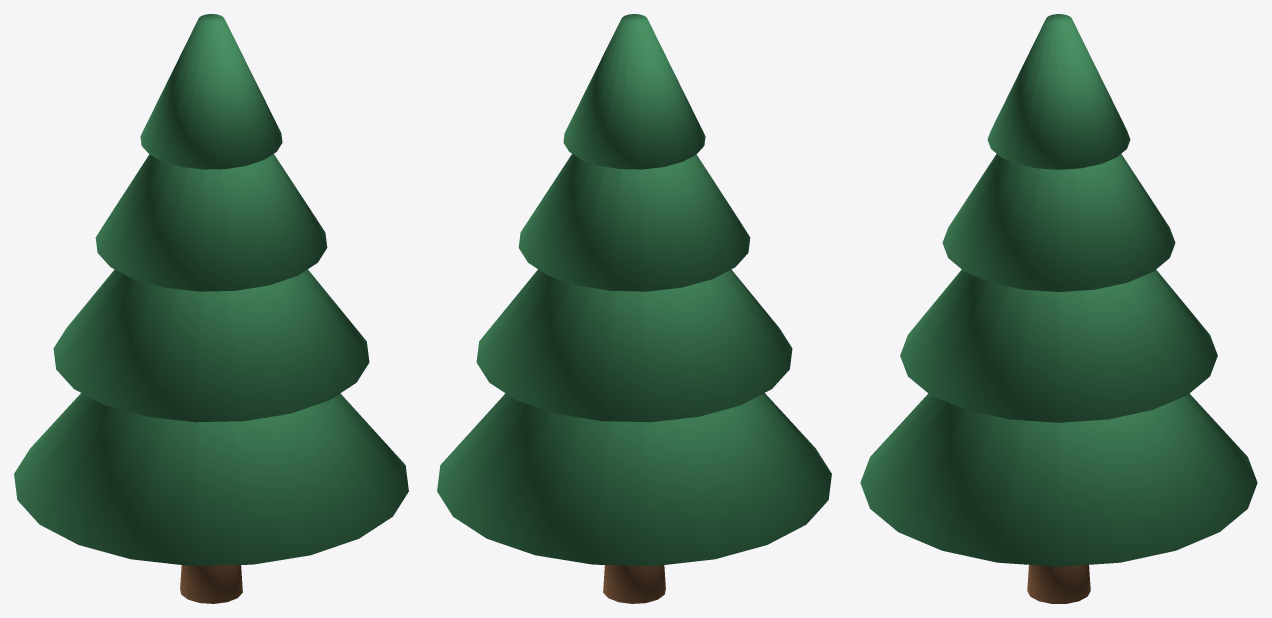
Rendered from cedar.glb.
3 renders of one model, left to right at view 1: azimuth 30°, elevation 25°; view 2: azimuth 150°, elevation 25°; view 3: azimuth 270°, elevation 25°, orthographic.
Parts seen in each view (by area): view 1: canopy, trunk; view 2: canopy, trunk; view 3: canopy, trunk.
Boxes of the visible parts, <box> form: canopy: <box>14,14,408,565</box>; trunk: <box>180,565,242,603</box>; canopy: <box>437,14,831,565</box>; trunk: <box>603,565,665,603</box>; canopy: <box>860,14,1257,566</box>; trunk: <box>1027,565,1090,603</box>.
Size of the model in its own units: 1.5 by 2.38 by 1.5.
